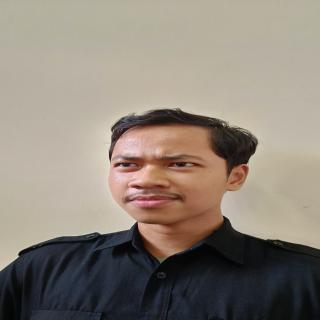Marah: (105, 120, 235, 232)
